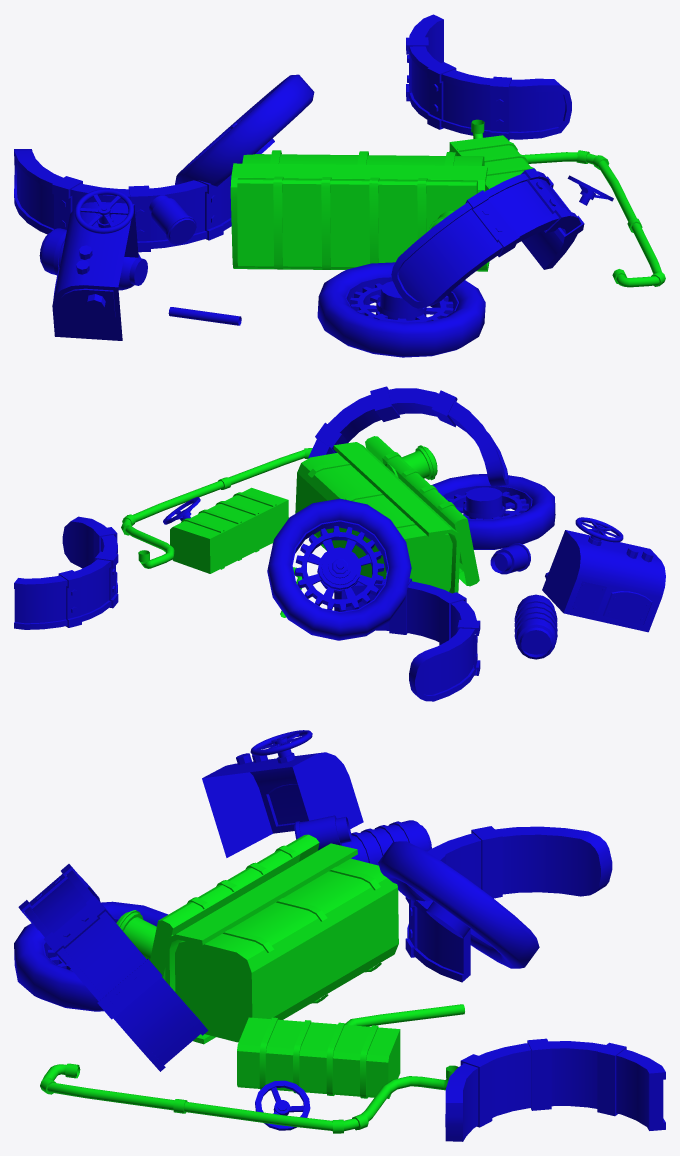
File: SM_town_vehicle_PROP1.fbx
3 views of the same model, one above another, from view 1: azimuth 30°, elevation 25°; view 2: azimuth 150°, elevation 25°; view 3: azimuth 270°, elevation 25° (orthographic). The views are drawn at different scales.
Visible parts, largest first — view 1: back_tire_cover_low.002, jim_main_low.002; view 2: back_tire_cover_low.002, jim_main_low.002; view 3: back_tire_cover_low.002, jim_main_low.002.
Part boxes in pixels (left/top/right/bottom): back_tire_cover_low.002: left=14, top=14, right=613, bottom=357; jim_main_low.002: left=230, top=119, right=665, bottom=287; back_tire_cover_low.002: left=14, top=386, right=665, bottom=701; jim_main_low.002: left=121, top=436, right=479, bottom=617; back_tire_cover_low.002: left=14, top=730, right=665, bottom=1141; jim_main_low.002: left=40, top=834, right=464, bottom=1133.
Size of the model in its own units: 420 by 89.55 by 360.
